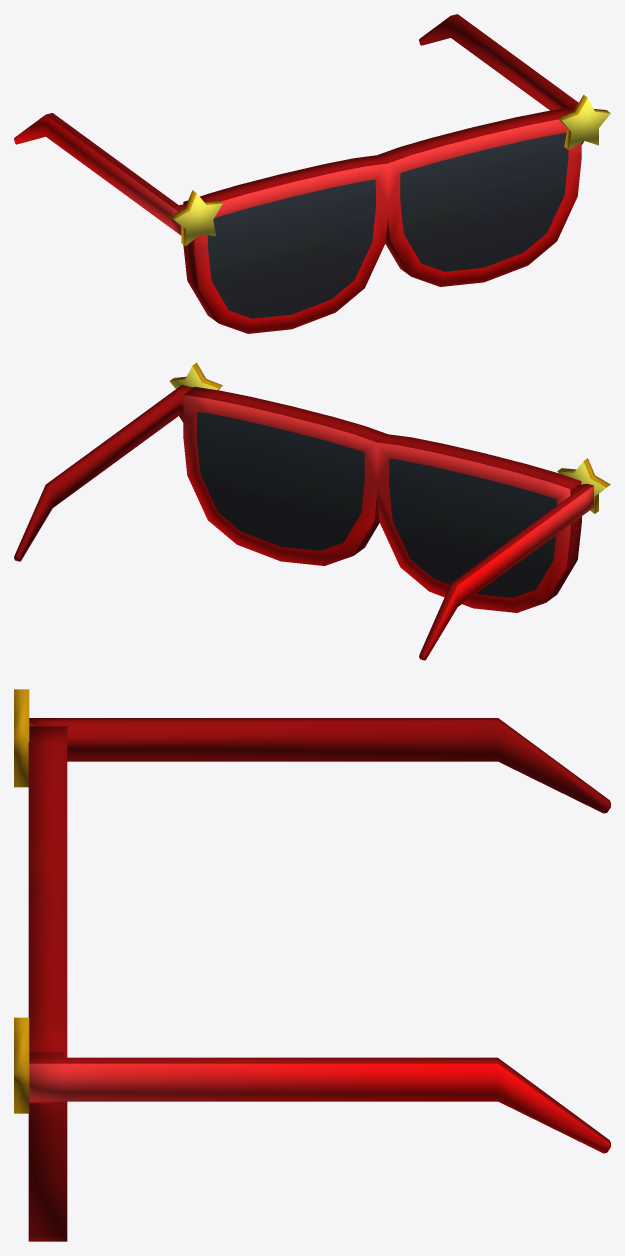
File: Gafas3.obj
The picture shows the model from 3 angles, top to bottom: view 1: azimuth 30°, elevation 25°; view 2: azimuth 150°, elevation 25°; view 3: azimuth 270°, elevation 25°; orthographic projection. The views are drawn at different scales.
Parts seen in each view (by area): view 1: Gafas3; view 2: Gafas3; view 3: Gafas3.
Part boxes in pixels (x1=…): Gafas3: x1=14, y1=14, x2=610, y2=333; Gafas3: x1=14, y1=362, x2=610, y2=660; Gafas3: x1=14, y1=689, x2=610, y2=1241.
Size of the model in its own units: 2.78 by 0.9916 by 1.91.
Materials: 1 (1 with a texture image).
